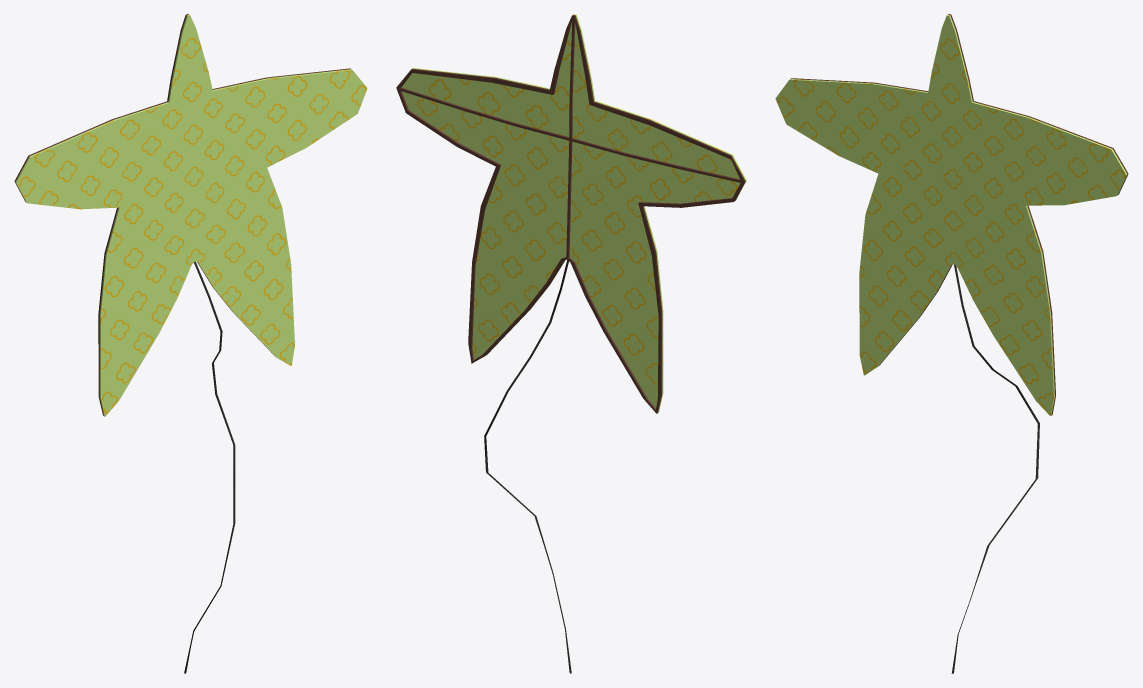
Rendered from kiteAnim.fbx.
3 views of the same model, side by side, from view 1: azimuth 30°, elevation 25°; view 2: azimuth 150°, elevation 25°; view 3: azimuth 330°, elevation 25° (orthographic).
Visible parts, largest first — view 1: Kite; view 2: Kite; view 3: Kite.
Boxes of the visible parts, x1,y1,x2,y2 form: Kite: (14, 14, 367, 673); Kite: (396, 14, 746, 673); Kite: (775, 14, 1128, 673).
Size of the model in its own units: 10.02 by 18.03 by 1.86.
2 materials, 1 textured.
